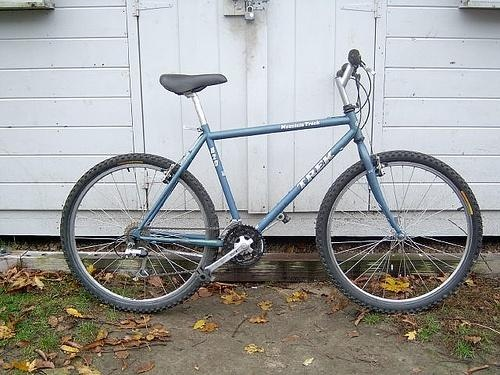bicycle: (58, 48, 485, 317)
